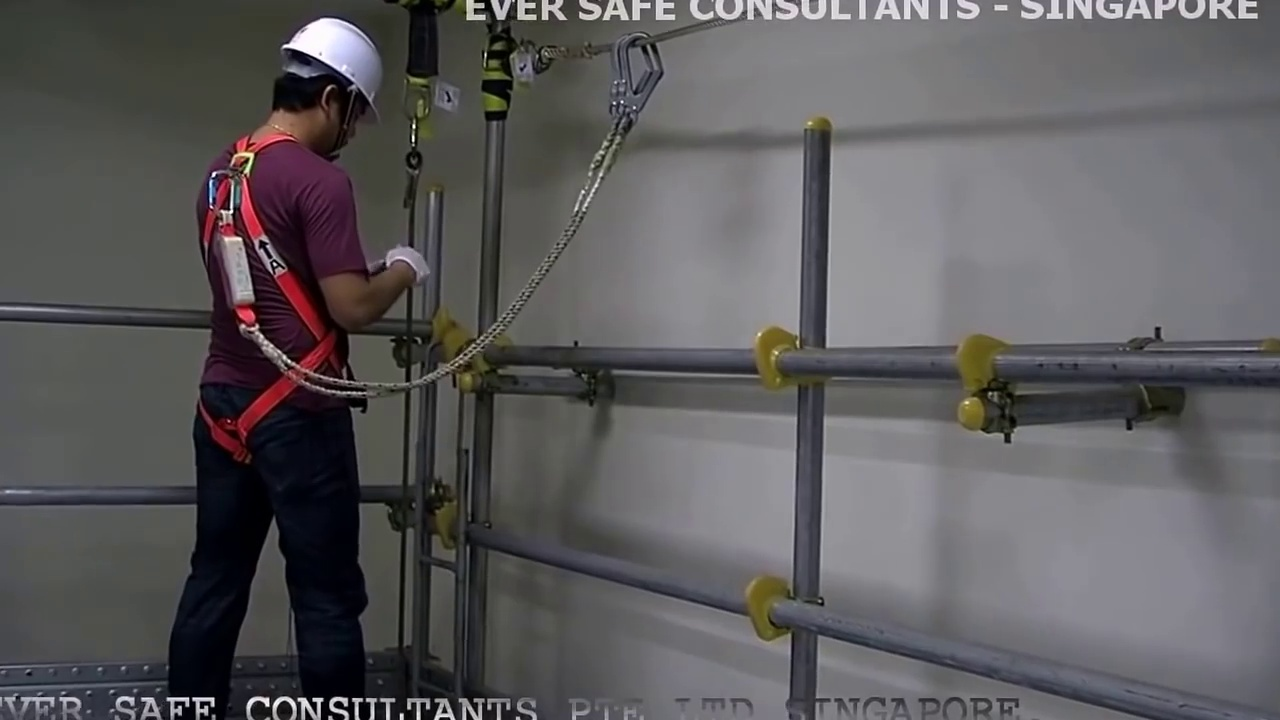harness: (200, 140, 309, 459)
helmet: (279, 10, 380, 102)
hook: (601, 29, 672, 118)
leash: (433, 145, 627, 387)
